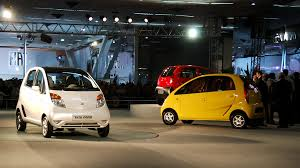Nano: (13, 66, 111, 138), (157, 72, 265, 131)
